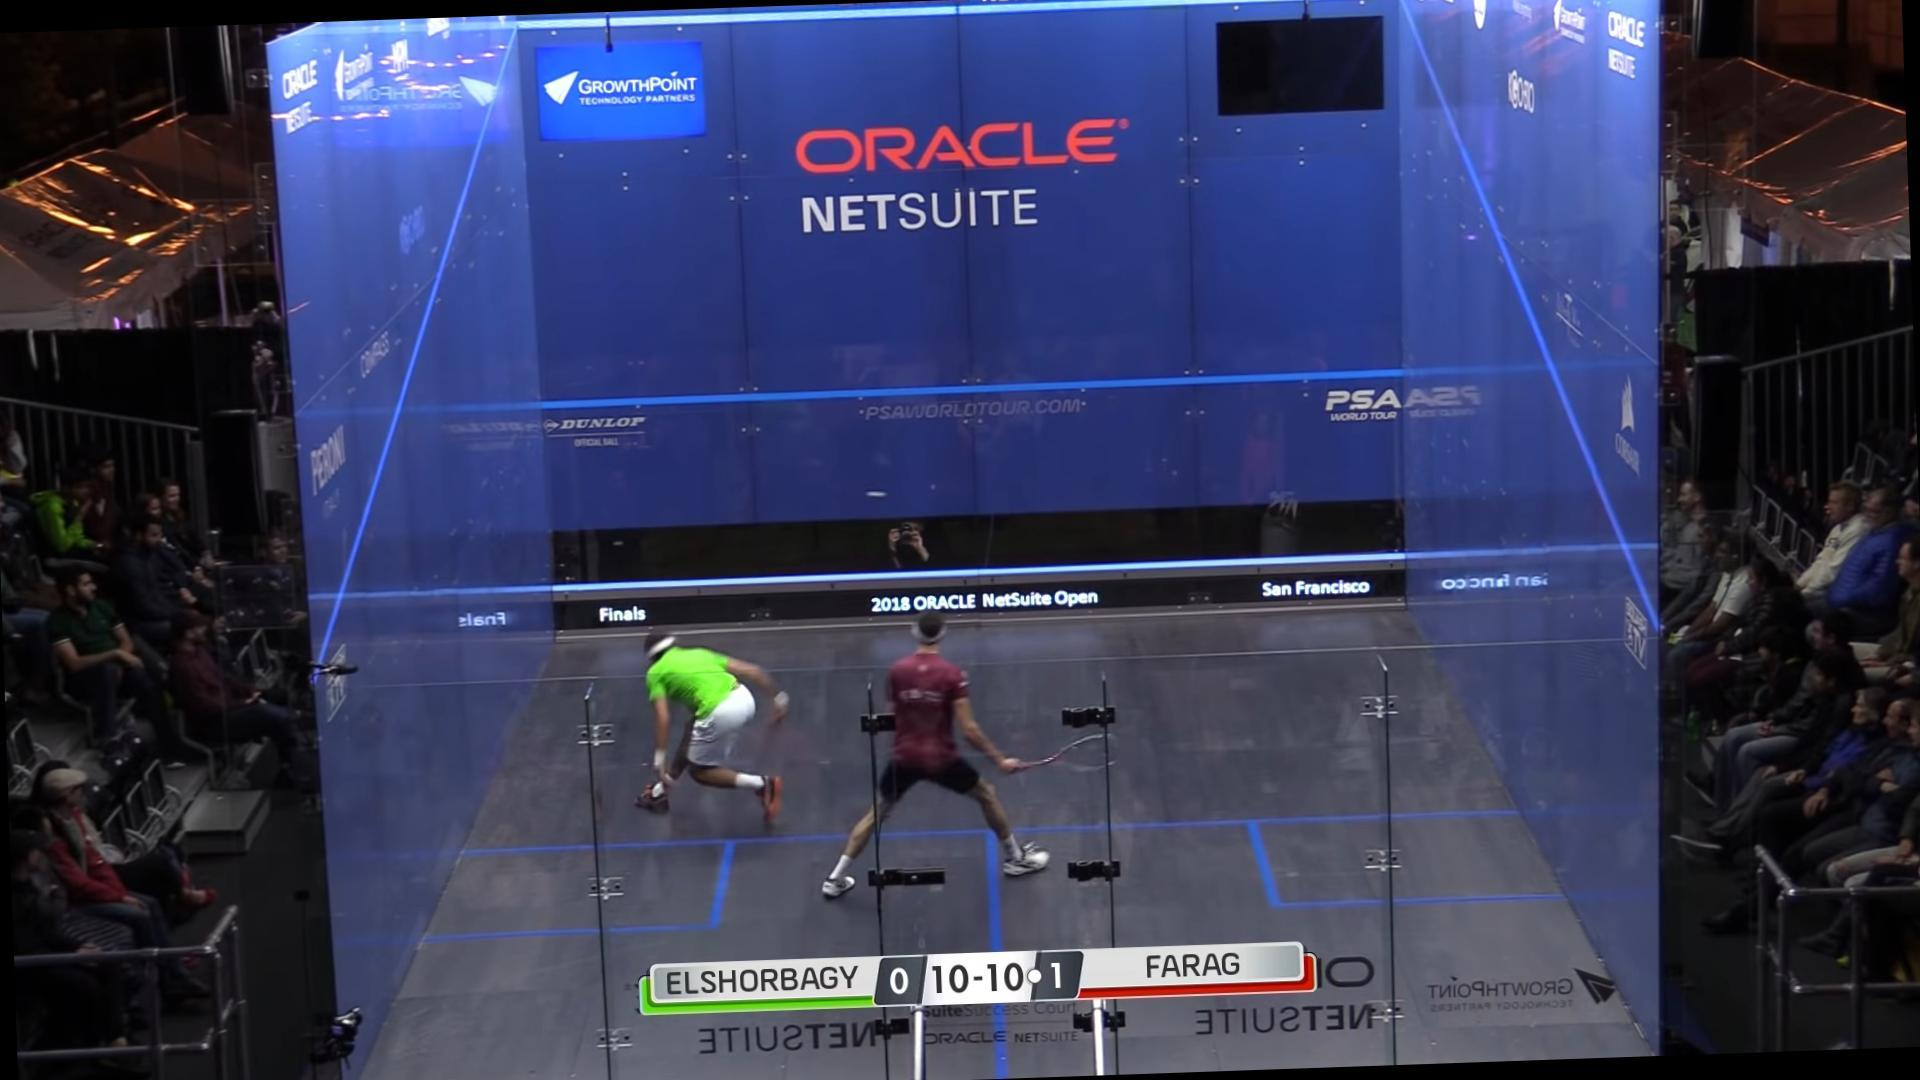Squash-Ball: (865, 481, 889, 508)
